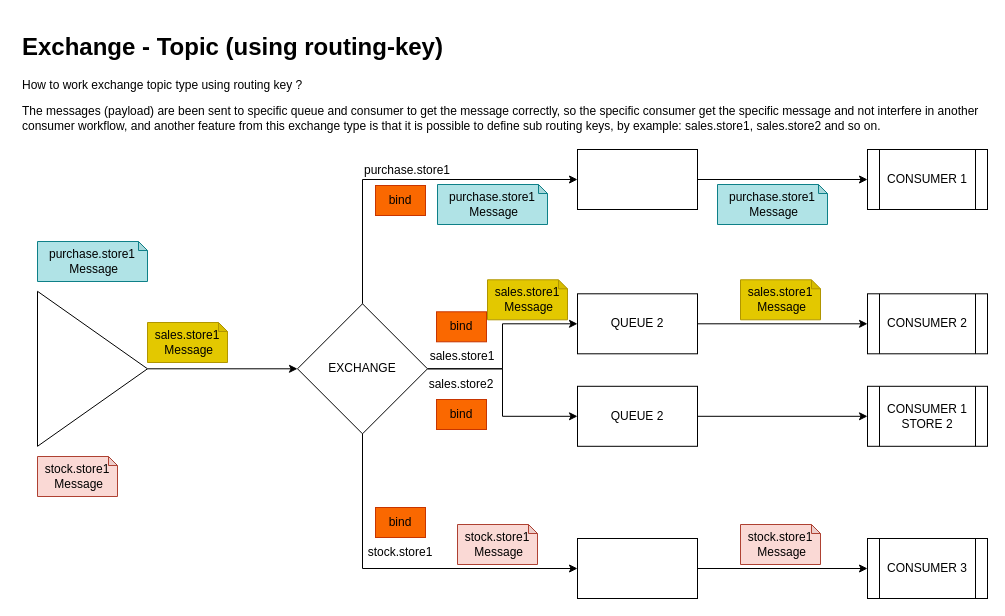
This 1005x616 diagram has some shape labels left out. Each missing label, with the centre of its shape:
PRODUCER: point 92,368
QUEUE 1: point 637,179
QUEUE 3: point 637,568
